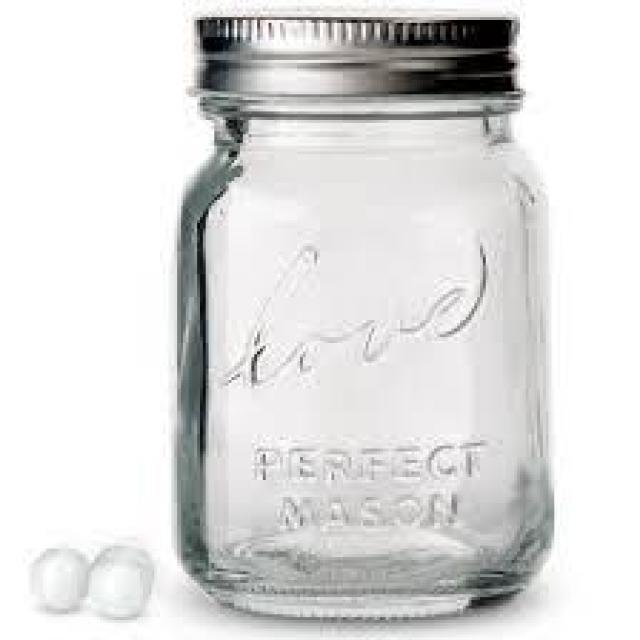Glass: (171, 13, 558, 623)
